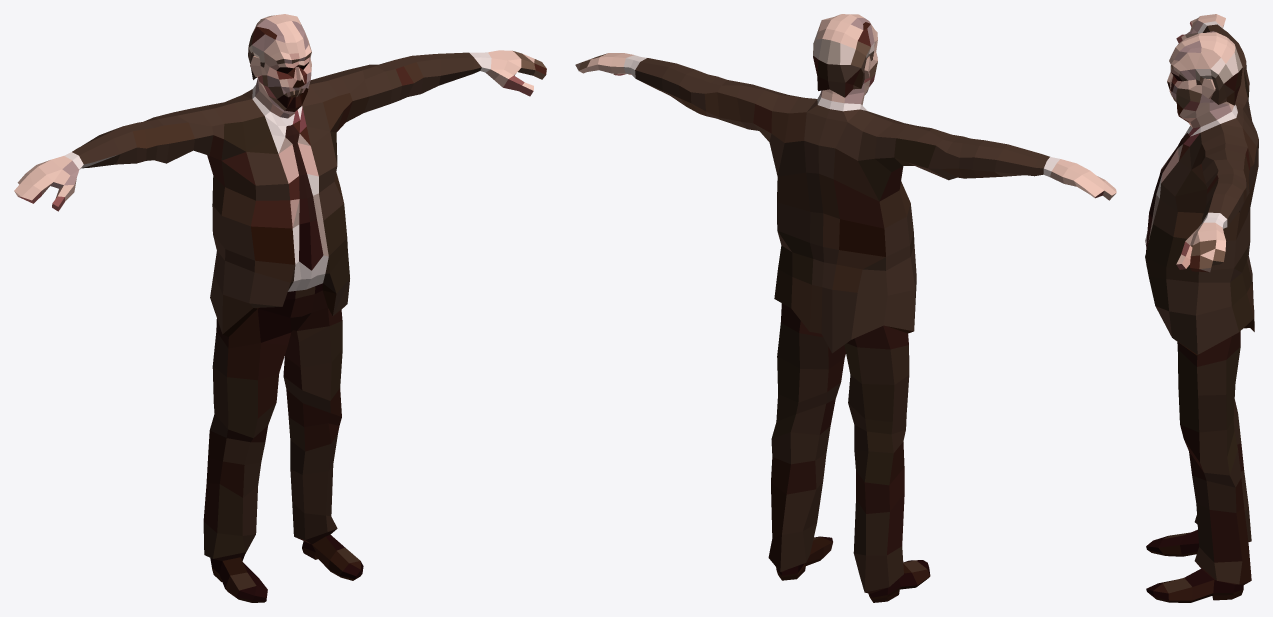
Rendered from lpMale_zombie_D-model.fbx.
3 renders of one model, left to right at view 1: azimuth 30°, elevation 25°; view 2: azimuth 150°, elevation 25°; view 3: azimuth 270°, elevation 25°, orthographic. The views are drawn at different scales.
Parts seen in each view (by area): view 1: lpMale_zombie_D; view 2: lpMale_zombie_D; view 3: lpMale_zombie_D.
Boxes of the visible parts, x1,y1,x2,y2 form: lpMale_zombie_D: (14, 14, 546, 602); lpMale_zombie_D: (575, 14, 1116, 602); lpMale_zombie_D: (1145, 14, 1258, 602).
Size of the model in its own units: 168 by 168 by 32.21.
1 material, 1 textured.
